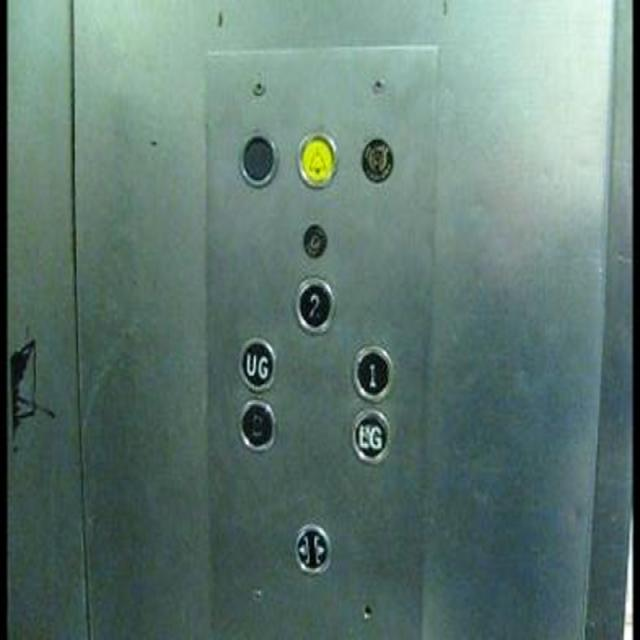1: (350, 341, 395, 403)
2: (292, 274, 335, 334)
LG: (349, 405, 392, 464)
UG: (236, 334, 276, 394)
alarm: (293, 125, 340, 192)
blur: (237, 397, 276, 451)
empty: (234, 127, 280, 189)
keyhole: (358, 134, 396, 187), (299, 220, 329, 259)
open: (292, 521, 331, 572)
